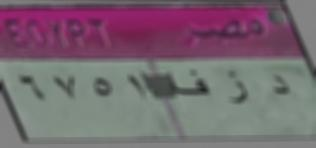1: (125, 71, 148, 105)
5: (92, 73, 116, 107)
6: (16, 71, 45, 108)
7: (54, 71, 80, 106)
daal: (267, 67, 294, 111)
faa: (165, 65, 212, 104)
zay: (220, 67, 252, 110)
